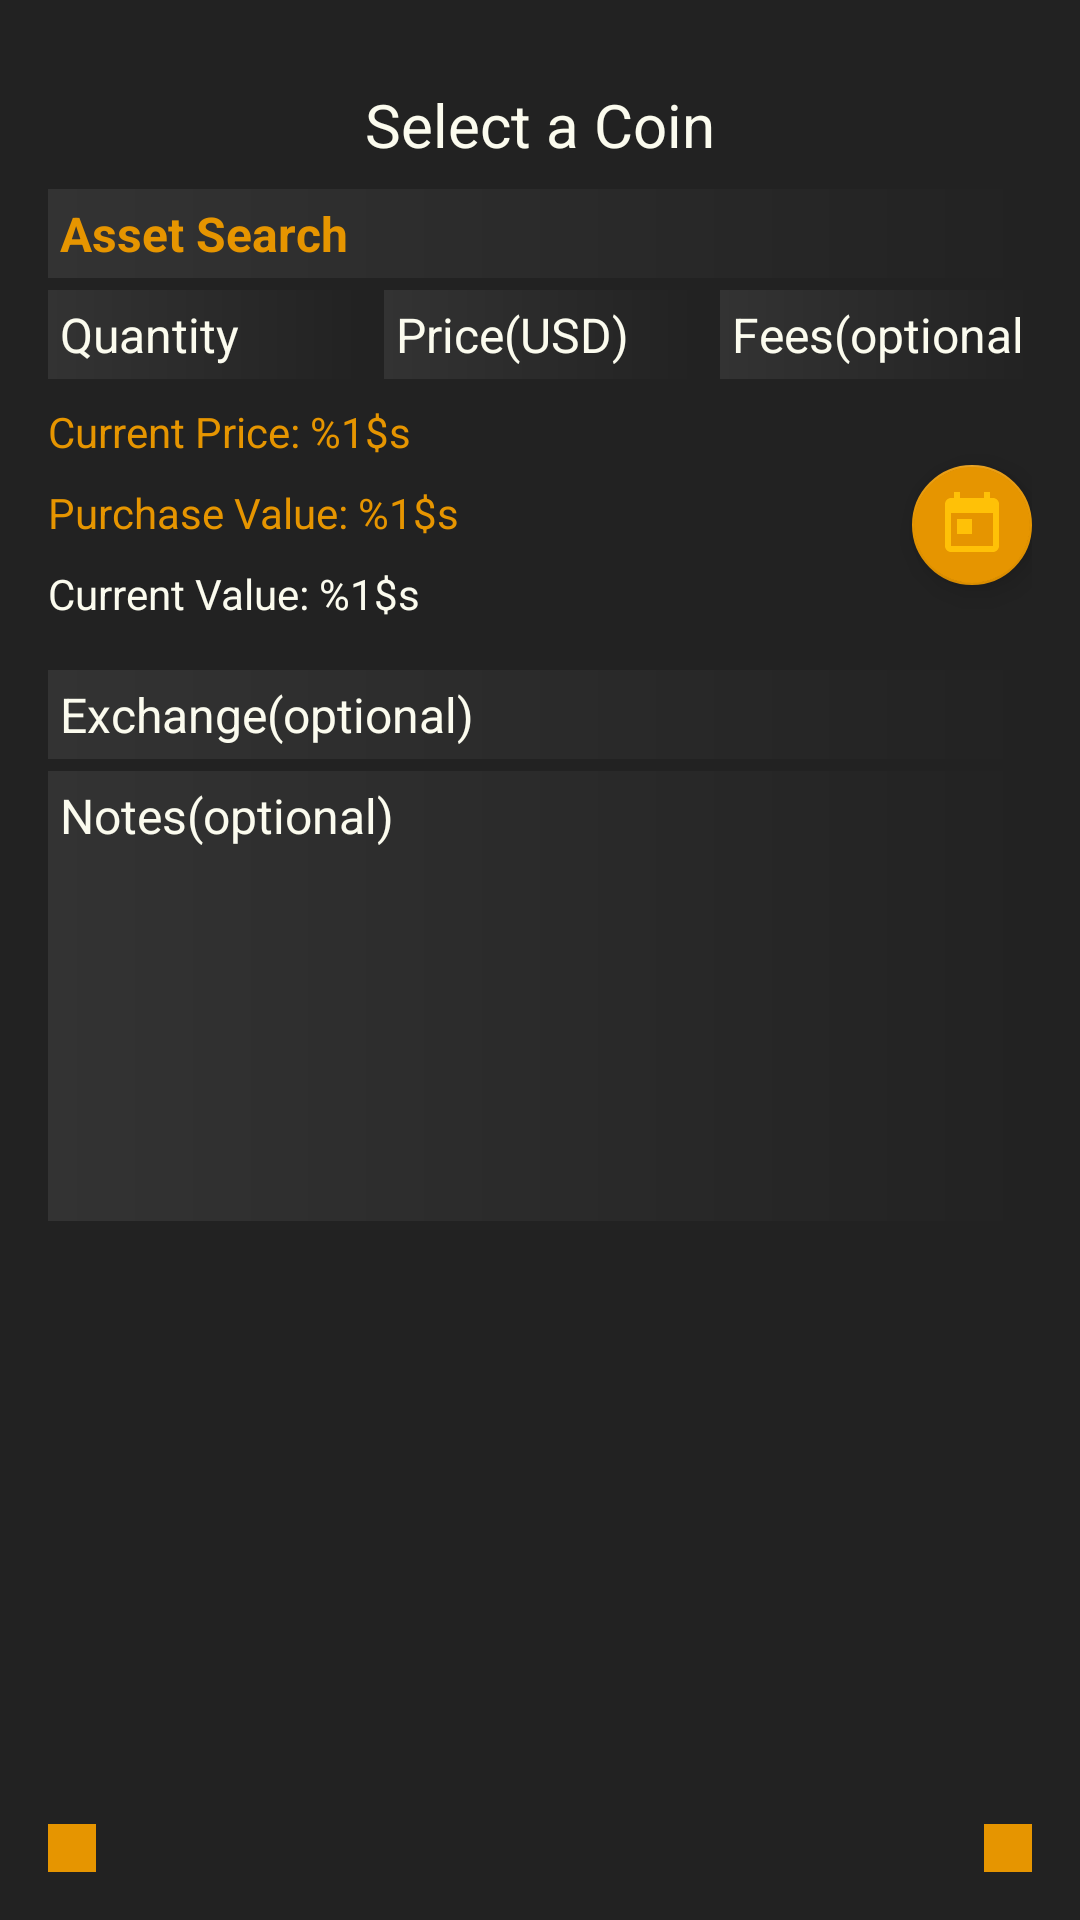

Where icons sit on this 1080w x 1920h app screen, as (x1, y1, x2, y2):
Date selection button: (912, 465, 1032, 585)
